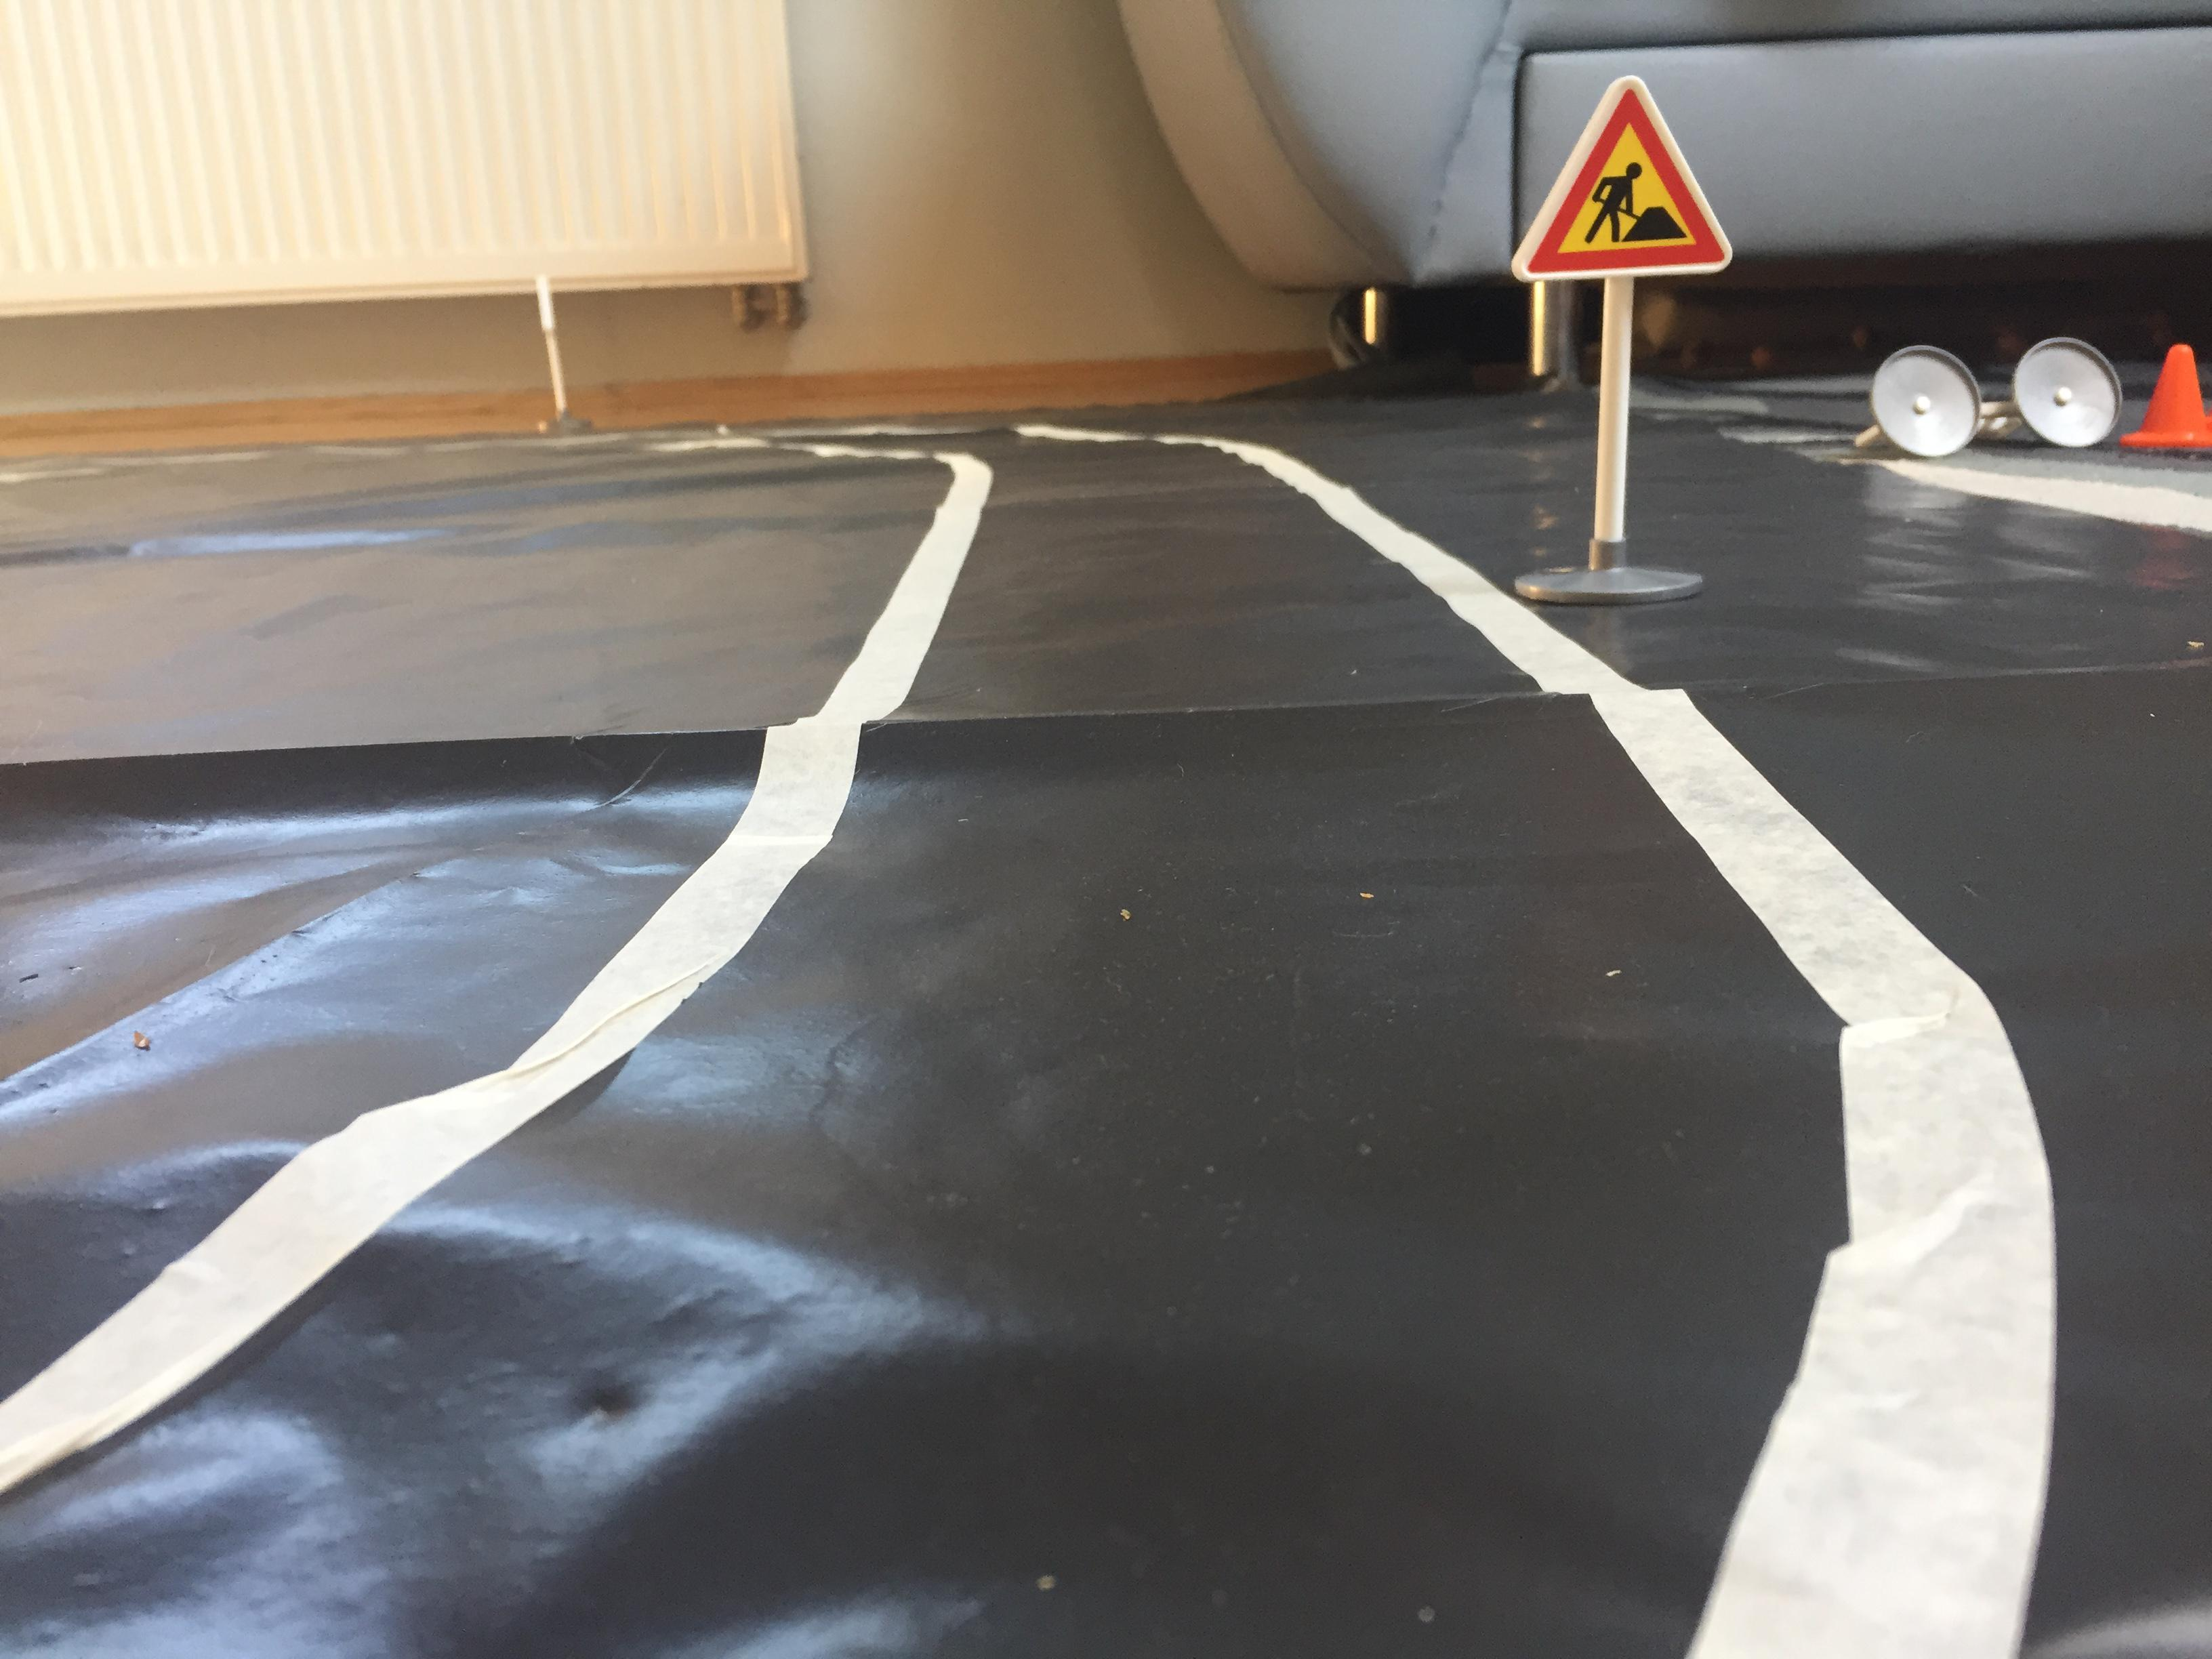work: (1498, 73, 1735, 293)
